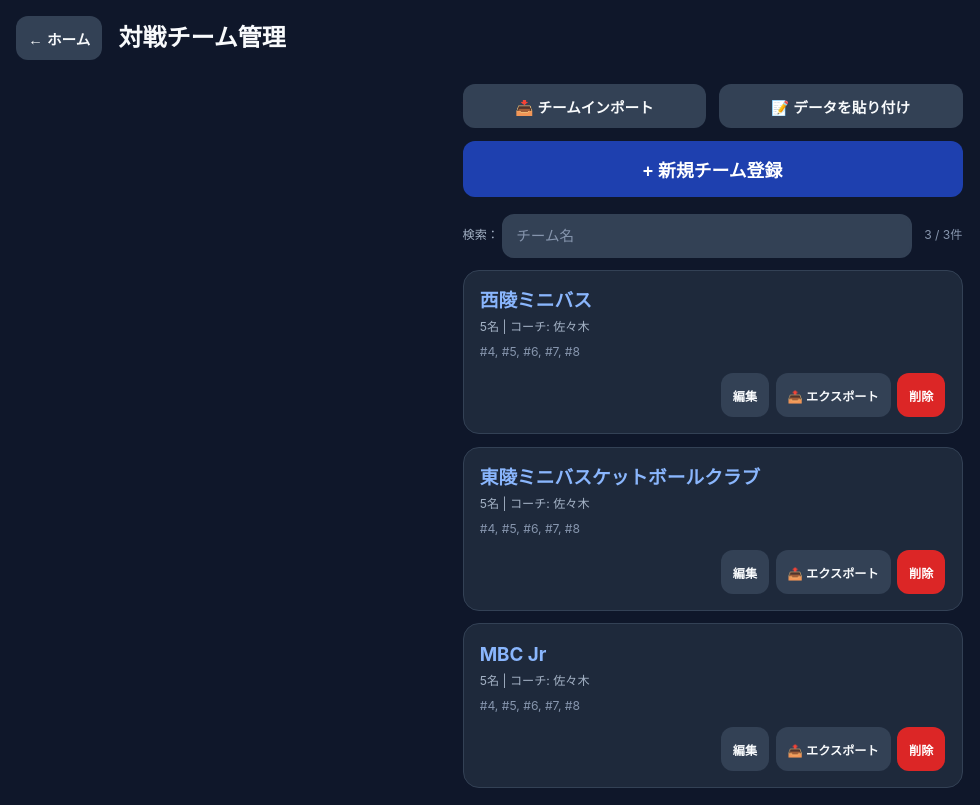
OpponentManager: 名前で探す › 件数を「n / m件」で示す
Expected: the text "3 / 3件" is shown, left=924, top=226, right=962, bottom=245
Type "ミニバス" into the search field labelled "検索：".
click(707, 236); type("ミニバス")  # box left=502, top=214, right=912, bottom=258
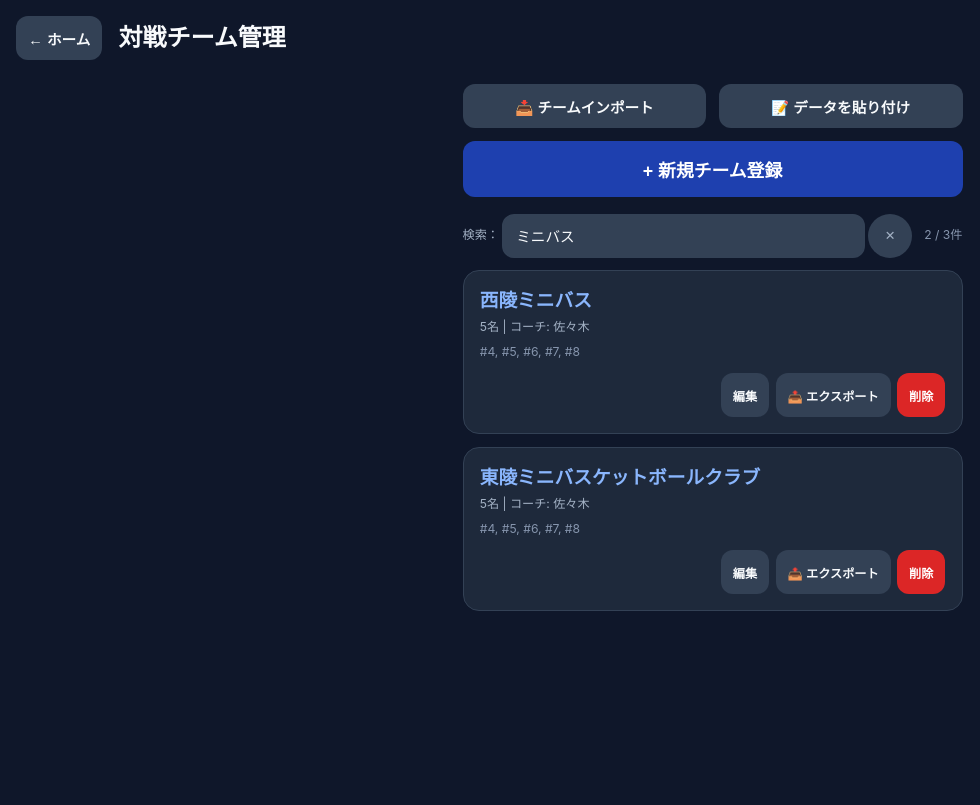
Now the text "2 / 3件" is shown, box left=924, top=226, right=962, bottom=245
